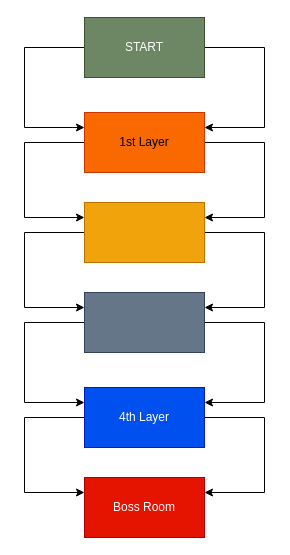
The diagram is 290 pixels wide and 555 high, and some of its shapes have lost their labels. Each missing label, with the box of its shape:
2nd Layer: (84, 202, 204, 262)
3nd Layer: (84, 292, 204, 352)
